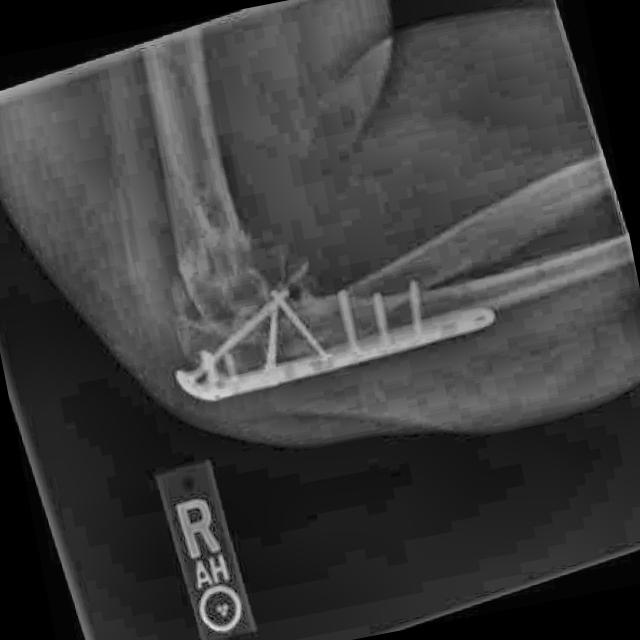elbow positive: (178, 229, 320, 397)
